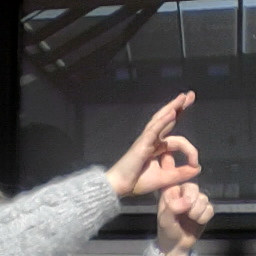OE: (114, 90, 218, 245)
